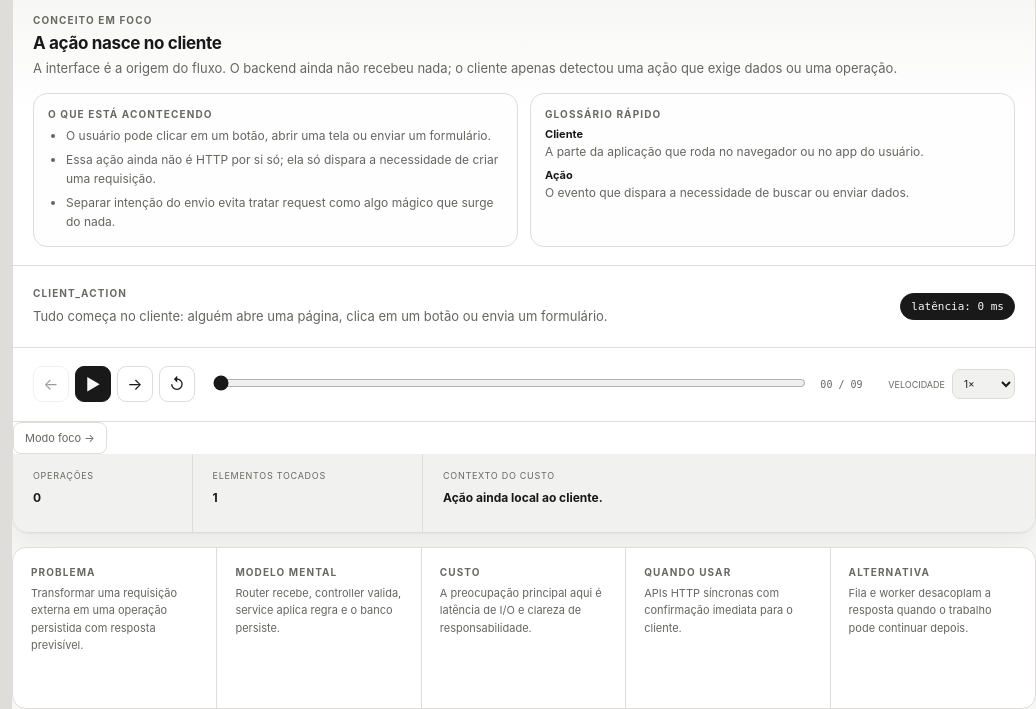
it: LessonPlayer › reinicia a cena de backend pelo botão de replay
This screenshot has width=1036, height=709.
(page scrolled)
Click the button named "Próximo passo" at (135, 384), box left=117, top=366, right=153, bottom=402
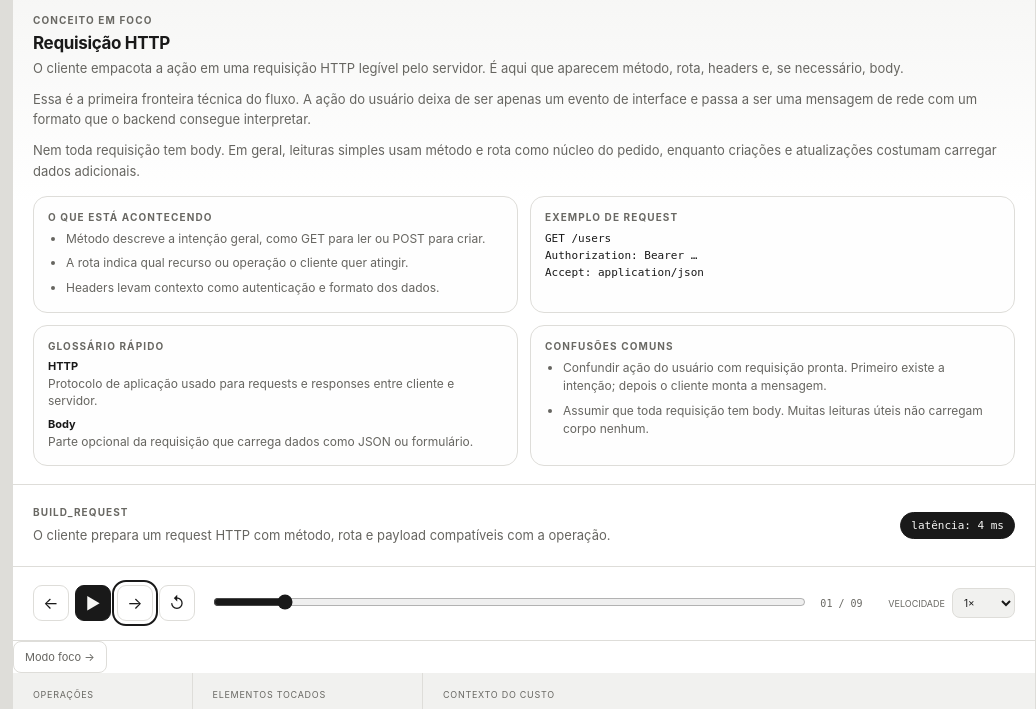
Click the button named "Próximo passo" at (135, 603), box left=117, top=585, right=153, bottom=621
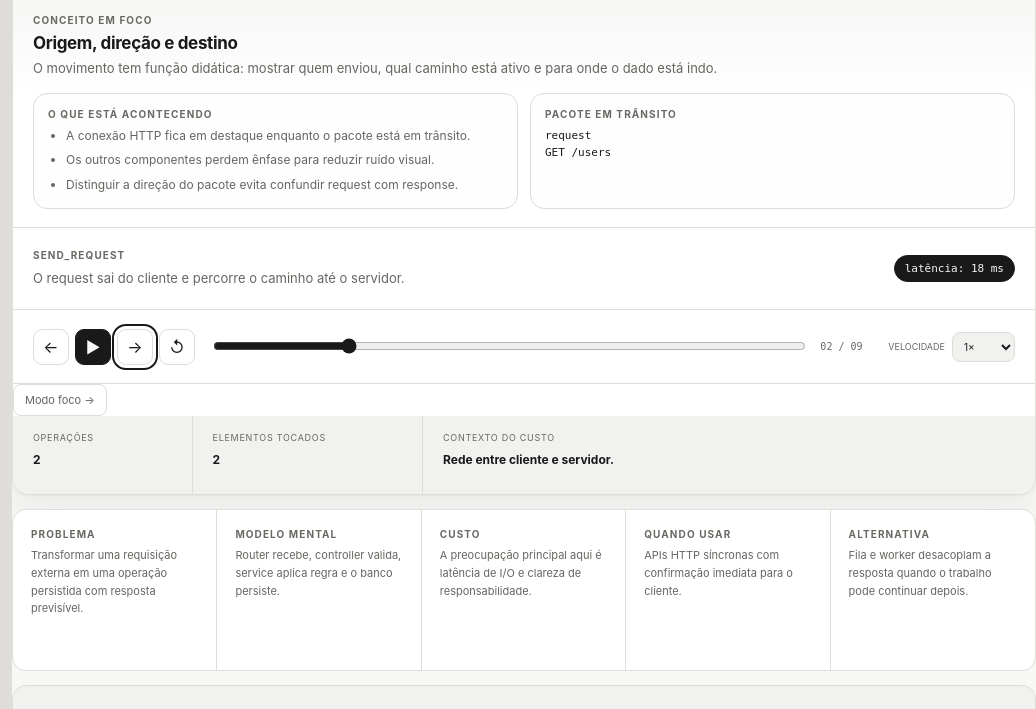
Result: the text named "Passo 2 de 9" is shown at left=820, top=341, right=863, bottom=352
Click the button named "Reiniciar" at (177, 347), box left=159, top=329, right=195, bottom=365
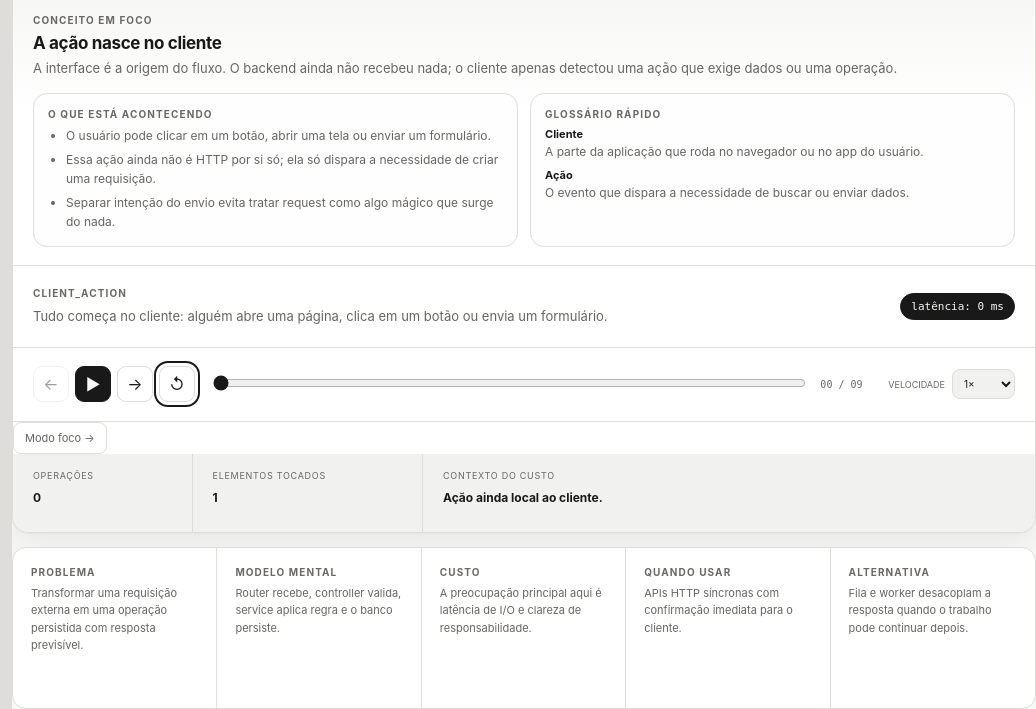
Result: the text named "Passo 0 de 9" is shown at left=820, top=379, right=863, bottom=390
